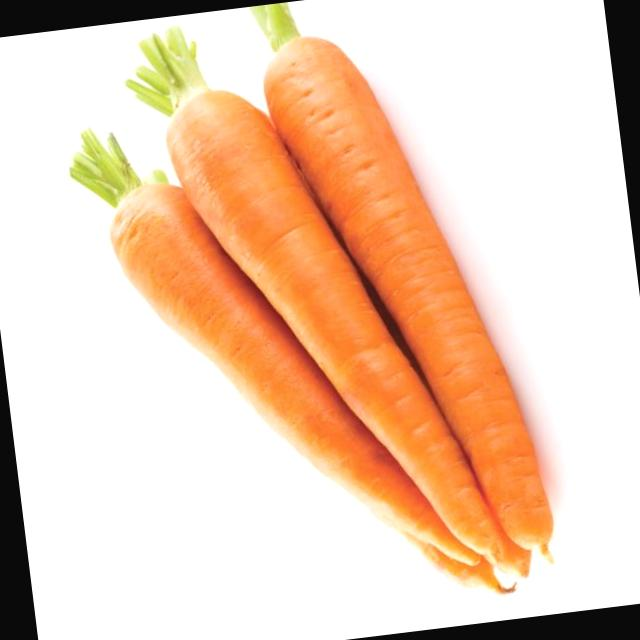carrot: (160, 86, 490, 553), (258, 34, 550, 553), (103, 185, 476, 567)
